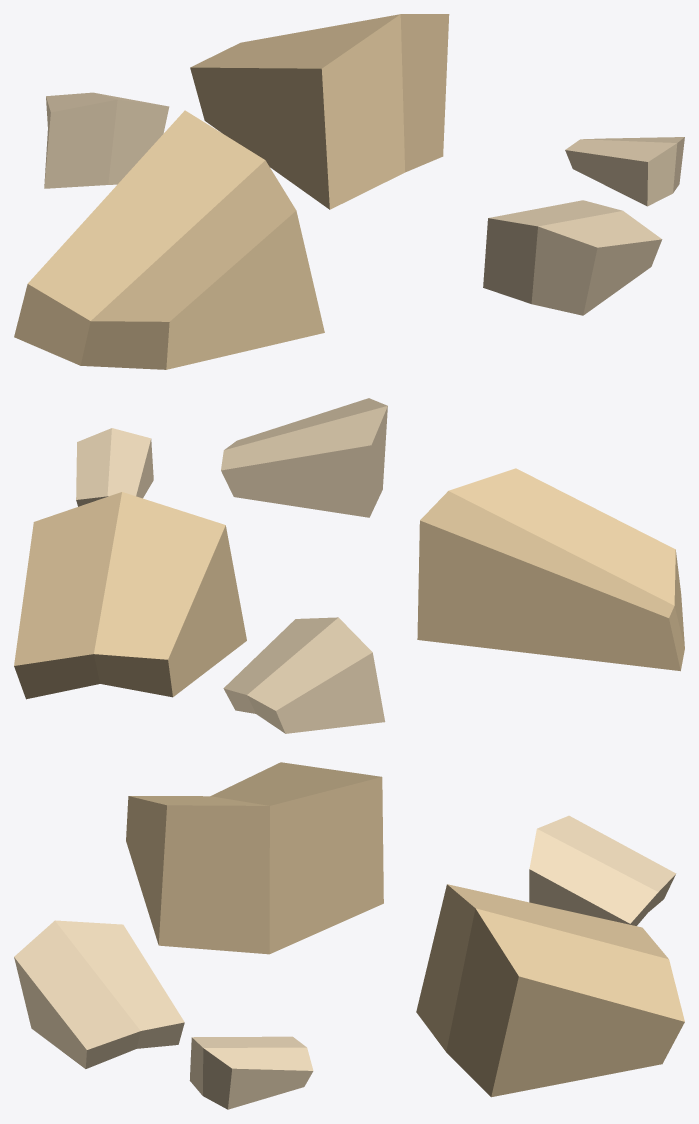
Rendered from Bone_Fragments_2__0.glb.
3 views of the same model, one above another, from view 1: azimuth 30°, elevation 25°; view 2: azimuth 150°, elevation 25°; view 3: azimuth 270°, elevation 25° (orthographic). The views are drawn at different scales.
Parts seen in each view (by area): view 1: Bone_Fragments_2__0; view 2: Bone_Fragments_2__0; view 3: Bone_Fragments_2__0.
Part boxes in pixels (x1,y1,x2,y2): Bone_Fragments_2__0: (14,14,684,369); Bone_Fragments_2__0: (14,398,684,733); Bone_Fragments_2__0: (14,762,684,1109).
Size of the model in its own units: 0.2608 by 0.0622 by 0.2292.
Materials: 1 (1 with a texture image).
